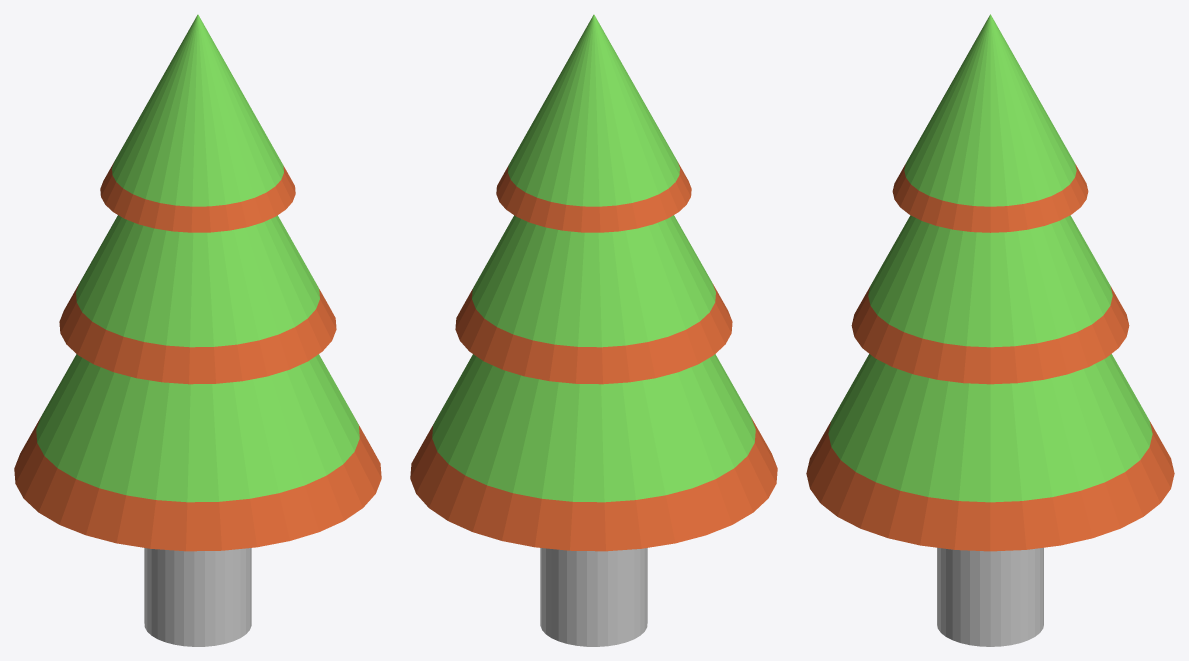
File: scottcock1.fbx
The picture shows the model from 3 angles, left to right: view 1: azimuth 30°, elevation 25°; view 2: azimuth 150°, elevation 25°; view 3: azimuth 270°, elevation 25°; orthographic projection.
Parts seen in each view (by area): view 1: Cylinder.001, Cylinder.002, Cylinder.003, Cylinder; view 2: Cylinder.001, Cylinder.002, Cylinder.003, Cylinder; view 3: Cylinder.001, Cylinder.002, Cylinder.003, Cylinder.
Boxes of the visible parts, box(x1,y1,x2,y2) form: Cylinder.001: box(14, 354, 381, 551); Cylinder.002: box(59, 215, 336, 384); Cylinder.003: box(100, 14, 295, 232); Cylinder: box(144, 548, 251, 646); Cylinder.001: box(410, 354, 777, 551); Cylinder.002: box(455, 215, 732, 384); Cylinder.003: box(496, 14, 691, 232); Cylinder: box(540, 548, 647, 646); Cylinder.001: box(806, 354, 1174, 551); Cylinder.002: box(851, 215, 1129, 384); Cylinder.003: box(892, 14, 1088, 232); Cylinder: box(937, 547, 1043, 646).
Bounding box in the file's own units: 413 × 755 × 413.
